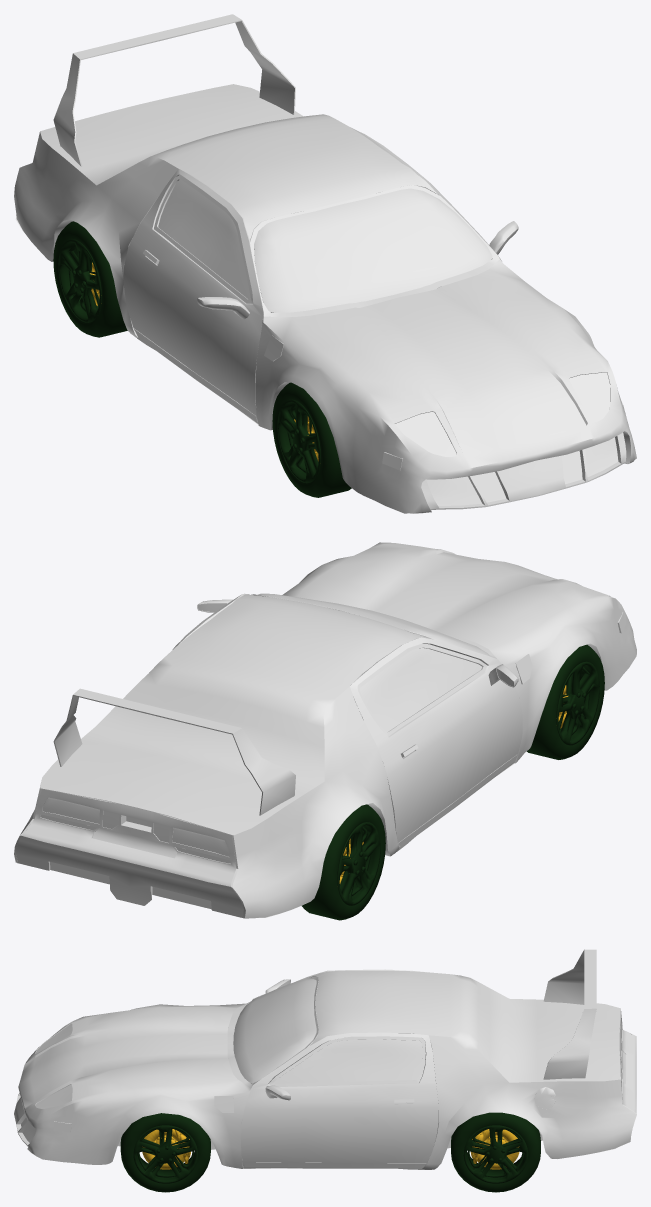
Rendered from Screamer_Retopo_Final_v1.fbx.
3 renders of one model, top to bottom at view 1: azimuth 30°, elevation 25°; view 2: azimuth 150°, elevation 25°; view 3: azimuth 270°, elevation 25°, orthographic. The views are drawn at different scales.
Visible parts, largest first — view 1: carbody_l, Window_glass_l, extras_l, wheel_l.002, wheel_l.003, Headlight_glass_l; view 2: carbody_l, extras_l, Window_glass_l, wheel_l.003, wheel_l.002, Headlight_glass_l; view 3: carbody_l, Window_glass_l, extras_l, wheel_l, wheel_l.001, Headlight_glass_l.
Part boxes in pixels (left/top/right/bottom): carbody_l: left=14, top=84, right=636, bottom=513; Window_glass_l: left=158, top=180, right=492, bottom=312; extras_l: left=15, top=14, right=624, bottom=470; wheel_l.002: left=272, top=382, right=351, bottom=497; wheel_l.003: left=53, top=221, right=127, bottom=337; Headlight_glass_l: left=395, top=372, right=610, bottom=456; carbody_l: left=14, top=542, right=636, bottom=918; extras_l: left=50, top=599, right=625, bottom=917; Window_glass_l: left=198, top=593, right=513, bottom=732; wheel_l.003: left=302, top=804, right=385, bottom=920; wheel_l.002: left=527, top=644, right=604, bottom=759; Headlight_glass_l: left=40, top=797, right=230, bottom=863; carbody_l: left=14, top=969, right=636, bottom=1169; Window_glass_l: left=233, top=979, right=422, bottom=1083; extras_l: left=53, top=949, right=619, bottom=1169; wheel_l: left=451, top=1112, right=540, bottom=1192; wheel_l.001: left=120, top=1113, right=210, bottom=1192; Headlight_glass_l: left=35, top=1020, right=625, bottom=1108.
Bounding box in the file's own units: 224 × 148 × 505.
